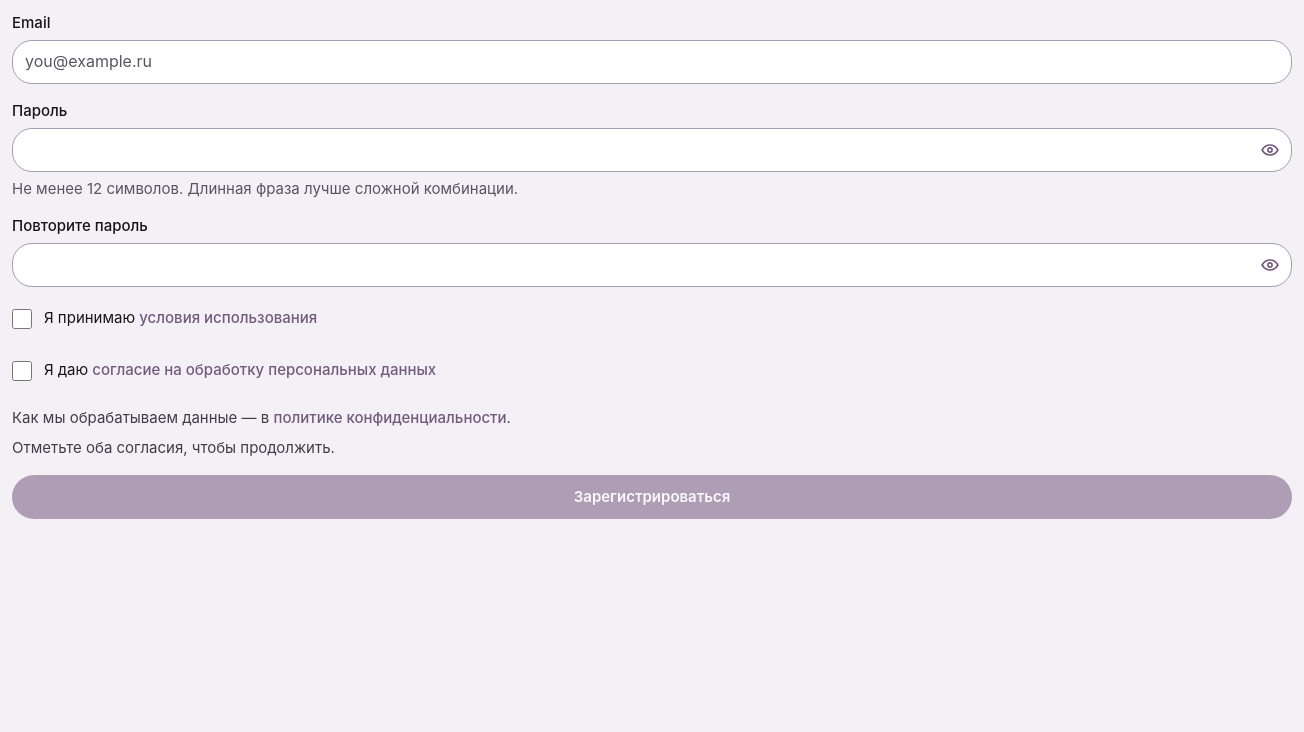
RegisterForm › shows Russian for a server field error and keeps the API’s English off the screen
In the field labelled "Email": {"x": 652, "y": 62} [12,40,1292,84], type "rider@example.com"
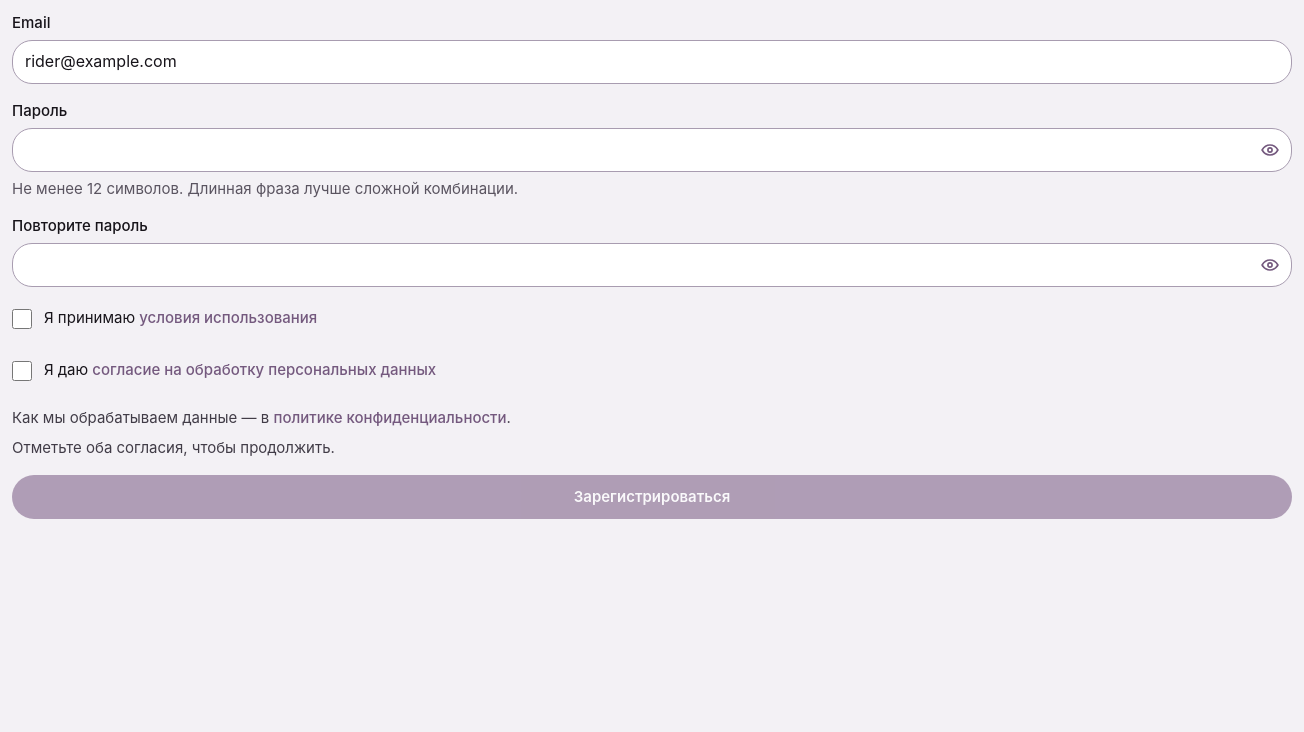
In the password field labelled "Пароль": {"x": 652, "y": 150} [12,128,1292,172], type "a-strong-password-123"
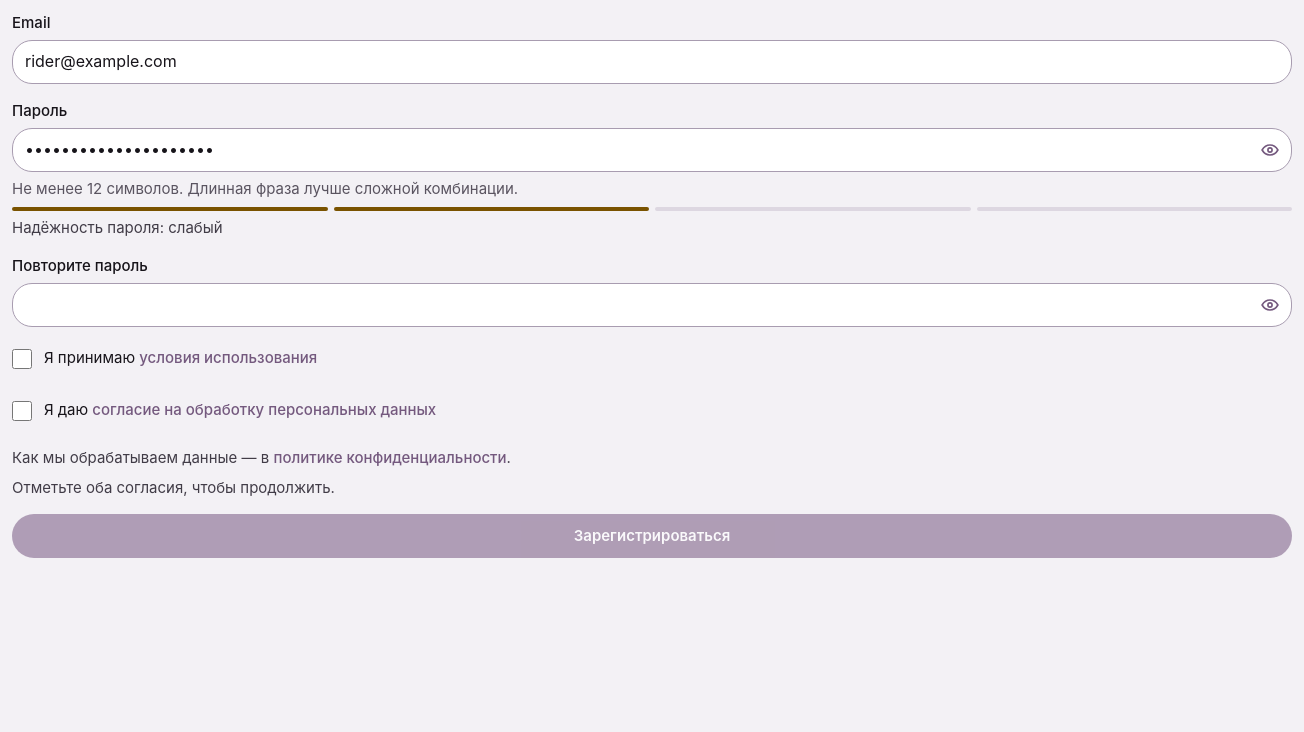
In the password field labelled "Повторите пароль": {"x": 652, "y": 305} [12,283,1292,327], type "a-strong-password-123"
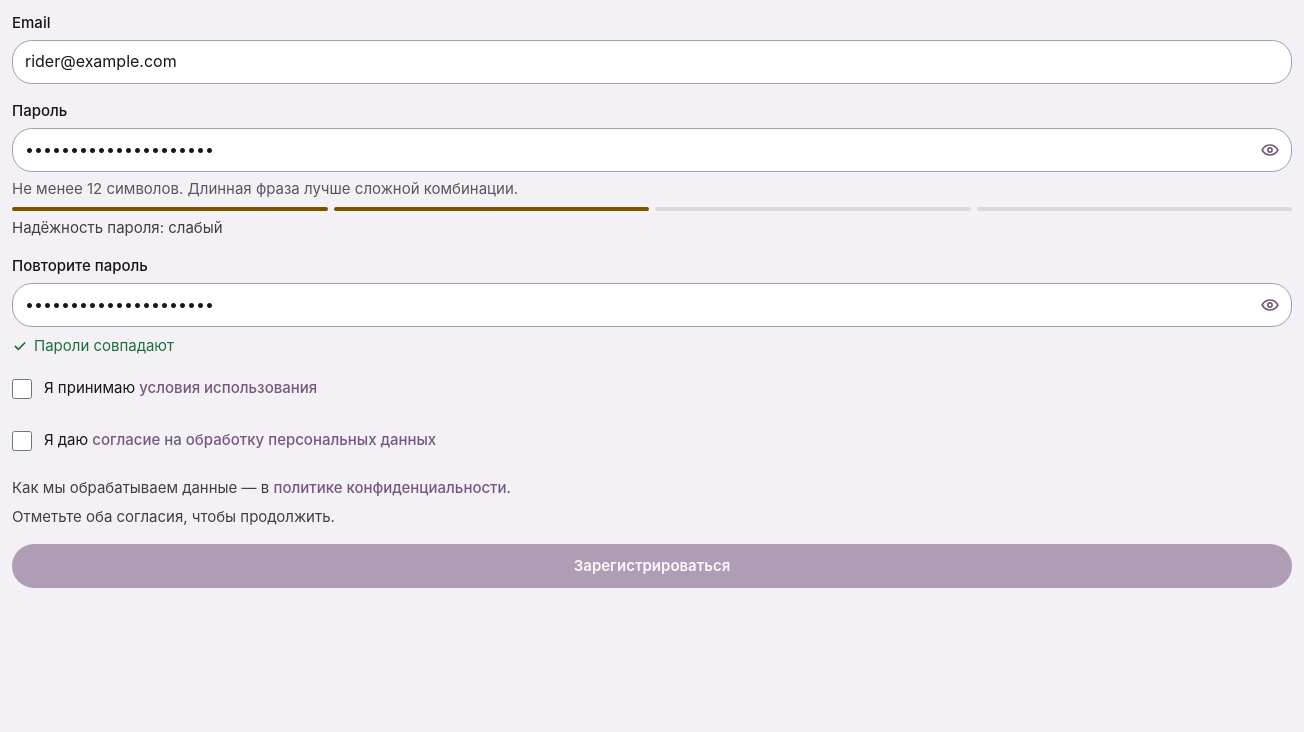
Click the checkbox labelled "Я принимаю условия использования": {"x": 22, "y": 388} [12,378,32,398]
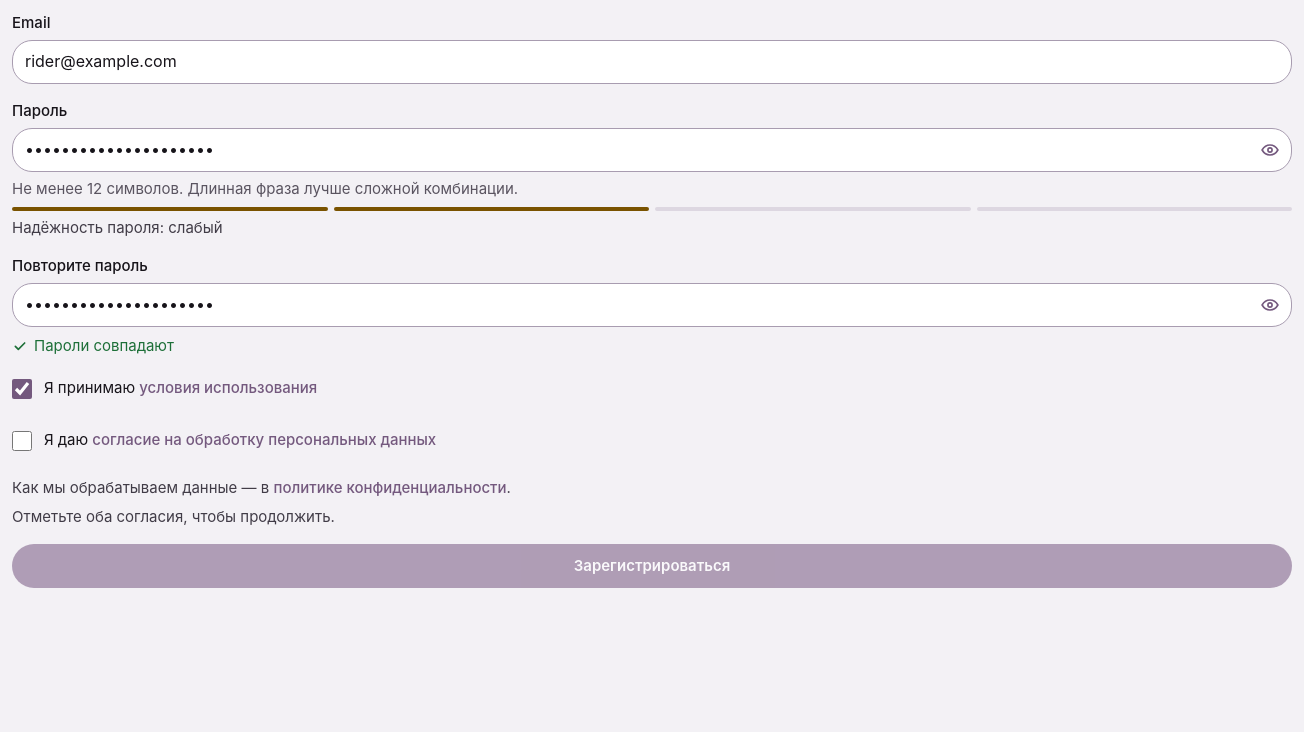
Click the checkbox labelled "Я даю согласие на обработку персональных данных": {"x": 22, "y": 440} [12,430,32,450]
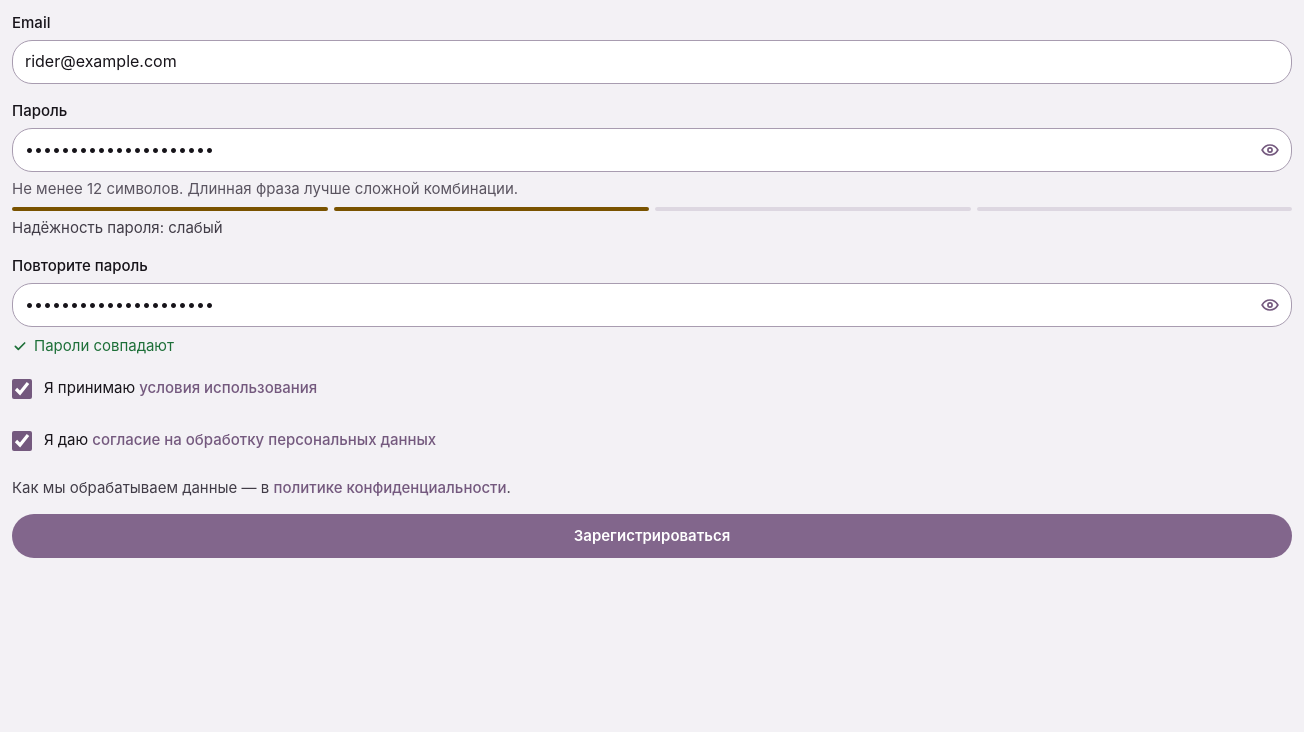
Click the button "Зарегистрироваться": {"x": 652, "y": 536} [12,514,1292,558]
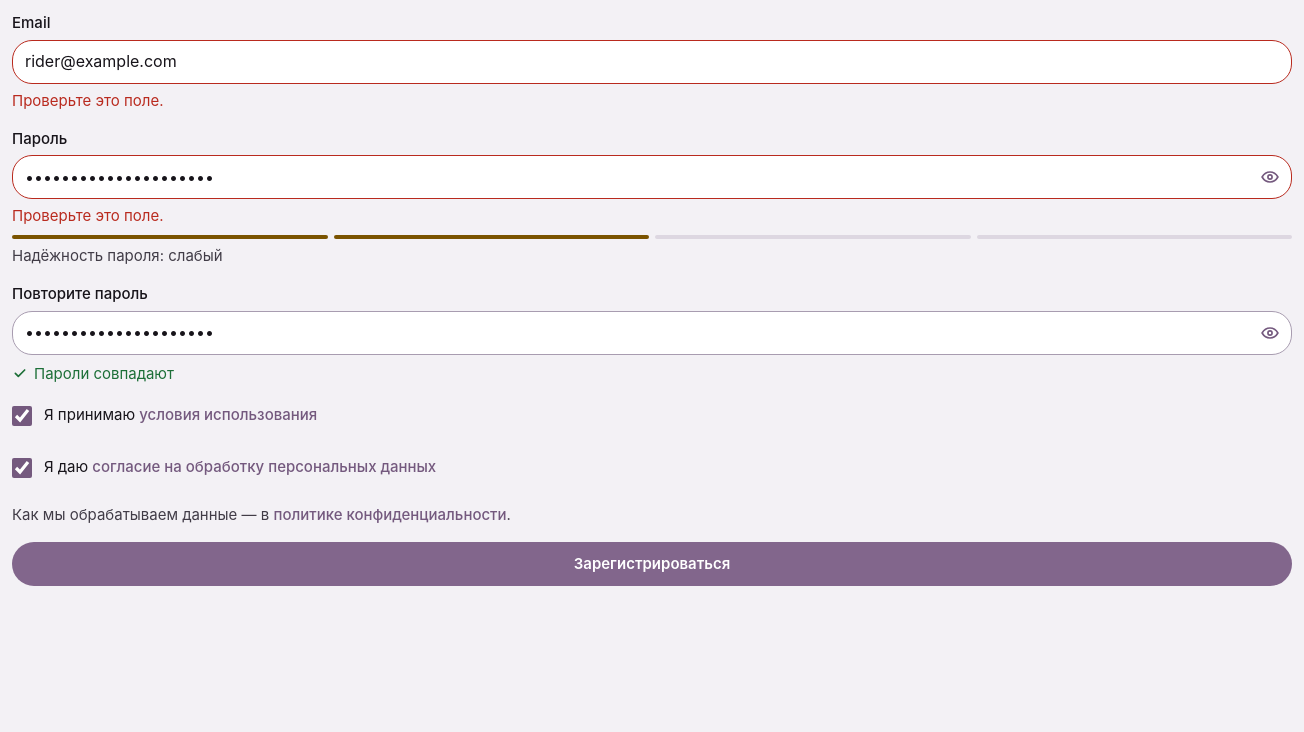
Result: the text "Проверьте это поле." is shown 2 times at [12,91,164,110]; [12,206,164,225]
